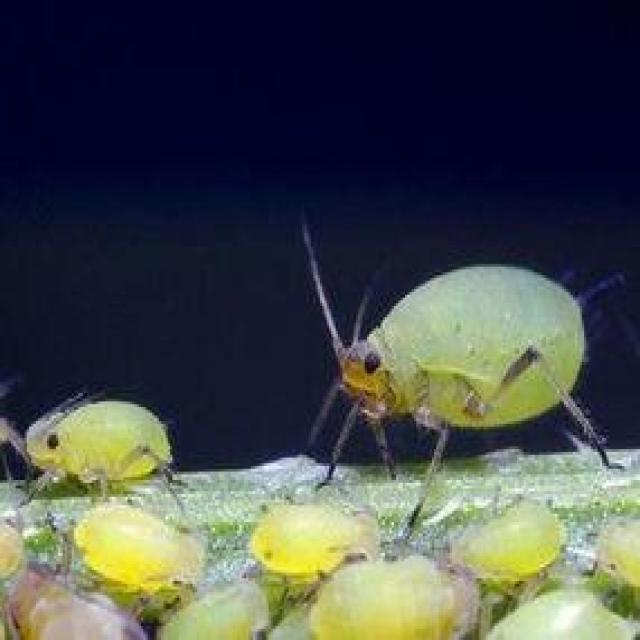Aphids: (279, 184, 626, 515), (19, 363, 207, 512)
